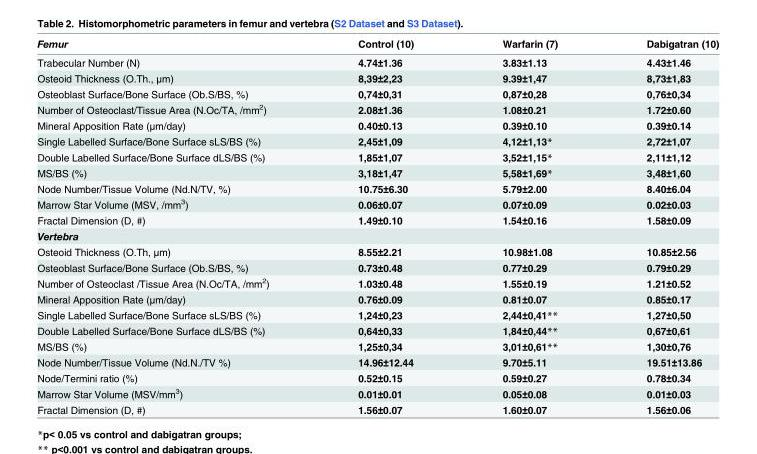table: (36, 36, 718, 415)
table column: (36, 36, 312, 415), (312, 36, 457, 415), (457, 36, 601, 415), (601, 36, 718, 415)
table column header: (36, 36, 718, 52)
table projected row header: (36, 227, 718, 243)
table row: (36, 52, 718, 69), (36, 100, 718, 117), (36, 384, 718, 401), (36, 36, 718, 52), (36, 69, 718, 85), (36, 117, 718, 133), (36, 148, 718, 164), (36, 164, 718, 180), (36, 195, 718, 211), (36, 211, 718, 227), (36, 227, 718, 243), (36, 243, 718, 259), (36, 274, 718, 290), (36, 290, 718, 306), (36, 306, 718, 322), (36, 322, 718, 338), (36, 338, 718, 354), (36, 85, 718, 100), (36, 133, 718, 148), (36, 180, 718, 195), (36, 259, 718, 274), (36, 354, 718, 369), (36, 369, 718, 384), (36, 401, 718, 415)
